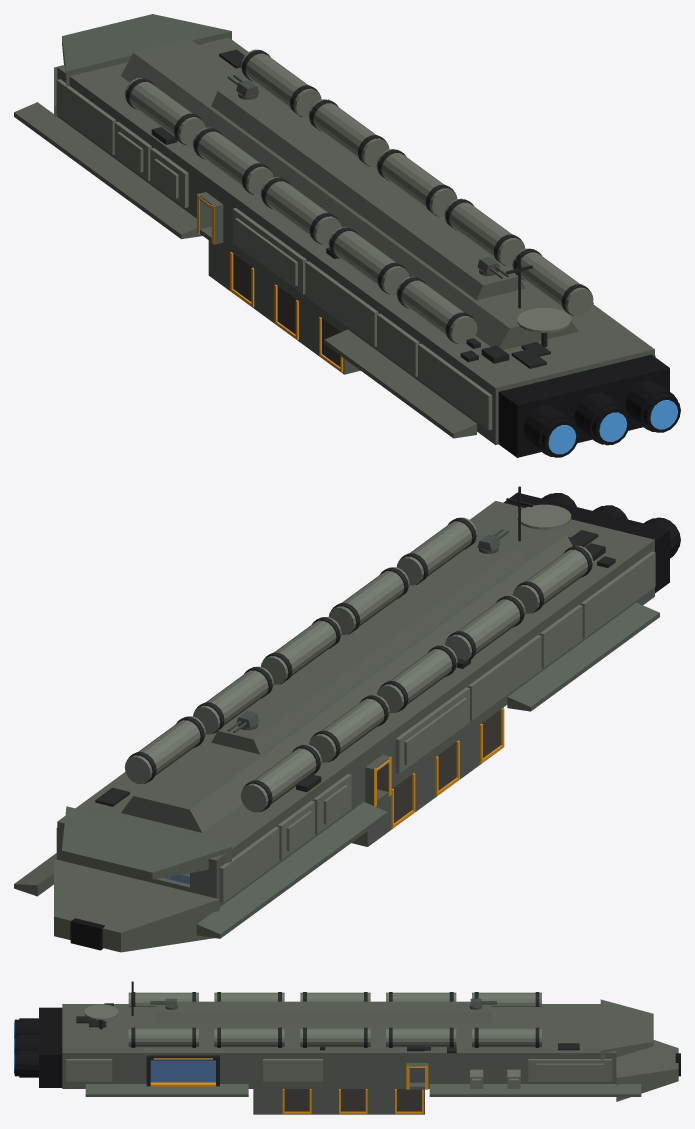
The model's file is ship_SMALL_SUPPORT.obj.
3 views of the same model, one above another, from view 1: azimuth 30°, elevation 25°; view 2: azimuth 150°, elevation 25°; view 3: azimuth 270°, elevation 25° (orthographic). The views are drawn at different scales.
Visible parts, largest first — view 1: SMALL_SUPPORT_Hull-col, SMALL_SUPPORT_Armor, SMALL_SUPPORT_Engines, SMALL_SUPPORT_Trim, SMALL_SUPPORT_Details, SMALL_SUPPORT_EngineGlow, SMALL_SUPPORT_Hazard, SMALL_SUPPORT_PodTube_Port_2_Hatch-col, SMALL_SUPPORT_PodTube_Port_3_Hatch-col; view 2: SMALL_SUPPORT_Hull-col, SMALL_SUPPORT_Armor, SMALL_SUPPORT_Engines, SMALL_SUPPORT_Trim, SMALL_SUPPORT_Details, SMALL_SUPPORT_Hazard, SMALL_SUPPORT_PodTube_Port_2_Hatch-col, SMALL_SUPPORT_PodTube_Port_3_Hatch-col; view 3: SMALL_SUPPORT_Hull-col, SMALL_SUPPORT_Armor, SMALL_SUPPORT_Engines, SMALL_SUPPORT_Trim, SMALL_SUPPORT_CargoBayShield, SMALL_SUPPORT_CargoBayDoor-col, SMALL_SUPPORT_Hazard, SMALL_SUPPORT_Details, SMALL_SUPPORT_PodTube_Starboard_1_Hatch-col, SMALL_SUPPORT_PodTube_Starboard_2_Hatch-col, SMALL_SUPPORT_PodTube_Starboard_3_Hatch-col, SMALL_SUPPORT_EscapePod_2 (+2 smaller).
Part boxes in pixels (left/top/right/bottom): SMALL_SUPPORT_Hull-col: left=14, top=14, right=654, bottom=444; SMALL_SUPPORT_Armor: left=56, top=49, right=655, bottom=430; SMALL_SUPPORT_Engines: left=498, top=354, right=680, bottom=457; SMALL_SUPPORT_Trim: left=126, top=50, right=593, bottom=347; SMALL_SUPPORT_Details: left=151, top=49, right=550, bottom=368; SMALL_SUPPORT_EngineGlow: left=548, top=400, right=677, bottom=454; SMALL_SUPPORT_Hazard: left=197, top=194, right=343, bottom=372; SMALL_SUPPORT_PodTube_Port_2_Hatch-col: left=277, top=286, right=296, bottom=334; SMALL_SUPPORT_PodTube_Port_3_Hatch-col: left=233, top=253, right=252, bottom=301; SMALL_SUPPORT_Hull-col: left=14, top=501, right=659, bottom=952; SMALL_SUPPORT_Armor: left=56, top=504, right=655, bottom=902; SMALL_SUPPORT_Engines: left=70, top=492, right=680, bottom=950; SMALL_SUPPORT_Trim: left=127, top=518, right=592, bottom=811; SMALL_SUPPORT_Details: left=95, top=486, right=615, bottom=806; SMALL_SUPPORT_Hazard: left=374, top=708, right=504, bottom=828; SMALL_SUPPORT_PodTube_Port_2_Hatch-col: left=437, top=742, right=456, bottom=790; SMALL_SUPPORT_PodTube_Port_3_Hatch-col: left=393, top=774, right=412, bottom=822; SMALL_SUPPORT_Hull-col: left=62, top=999, right=678, bottom=1114; SMALL_SUPPORT_Armor: left=66, top=992, right=612, bottom=1081; SMALL_SUPPORT_Engines: left=14, top=1007, right=680, bottom=1087; SMALL_SUPPORT_Trim: left=99, top=992, right=539, bottom=1086; SMALL_SUPPORT_CargoBayShield: left=150, top=1060, right=215, bottom=1082; SMALL_SUPPORT_CargoBayDoor-col: left=150, top=1060, right=215, bottom=1081; SMALL_SUPPORT_Hazard: left=150, top=1065, right=428, bottom=1113; SMALL_SUPPORT_Details: left=76, top=981, right=579, bottom=1053; SMALL_SUPPORT_PodTube_Starboard_1_Hatch-col: left=284, top=1089, right=309, bottom=1111; SMALL_SUPPORT_PodTube_Starboard_2_Hatch-col: left=341, top=1089, right=365, bottom=1111; SMALL_SUPPORT_PodTube_Starboard_3_Hatch-col: left=397, top=1089, right=421, bottom=1111; SMALL_SUPPORT_EscapePod_2: left=507, top=1069, right=520, bottom=1088.
Size of the model in its own units: 19.8 by 15.3 by 85.5.
